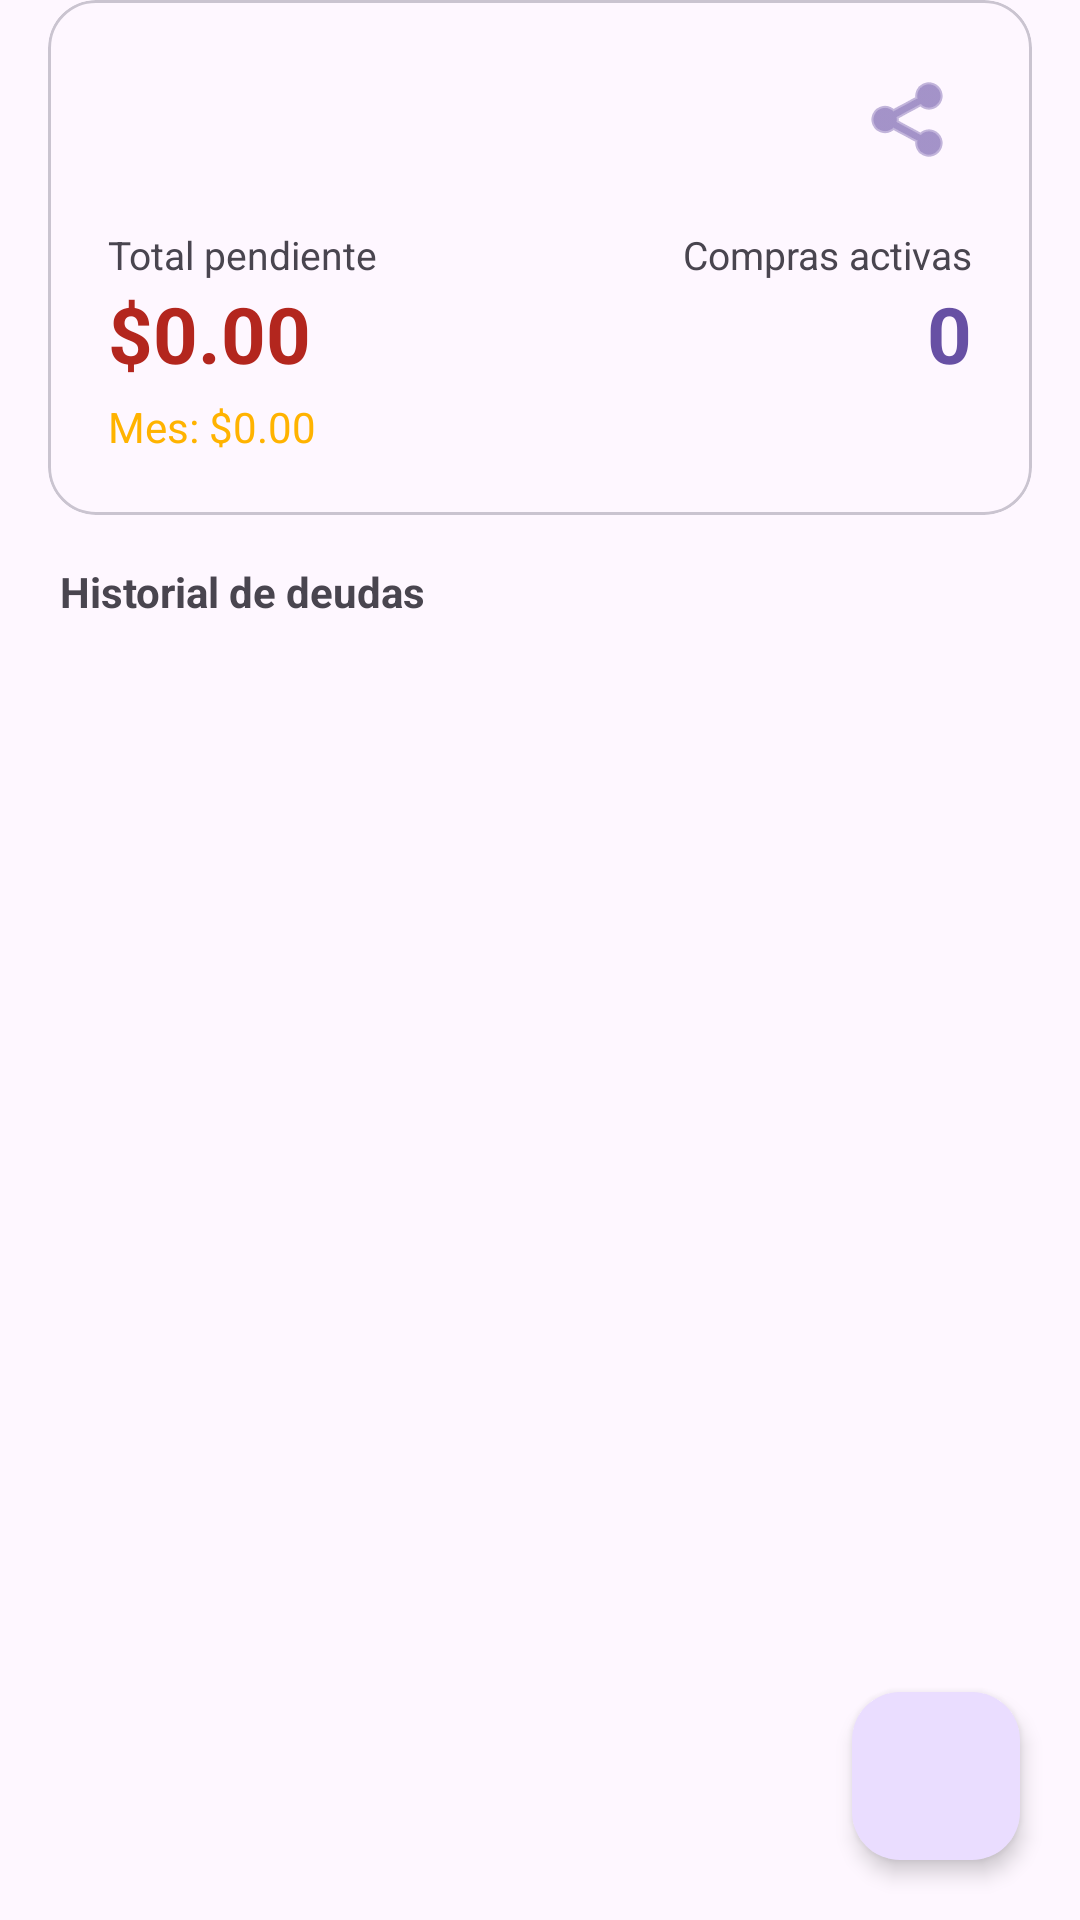

Point at icon controls on the screen. Image size 1080px×1920px, points as point (x, y).
Compartir reporte: point (907, 119)
